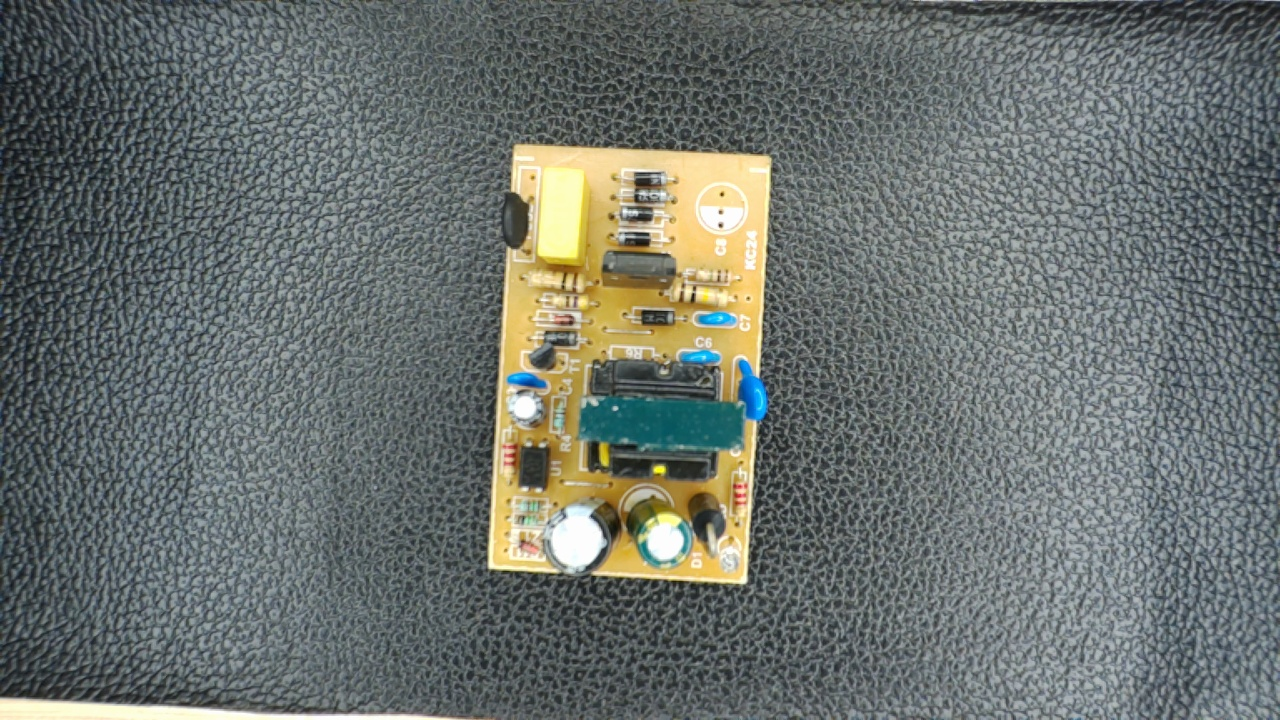fuse: (501, 179, 531, 264)
mov: (726, 356, 768, 423)
optocoupler: (516, 441, 554, 498)
